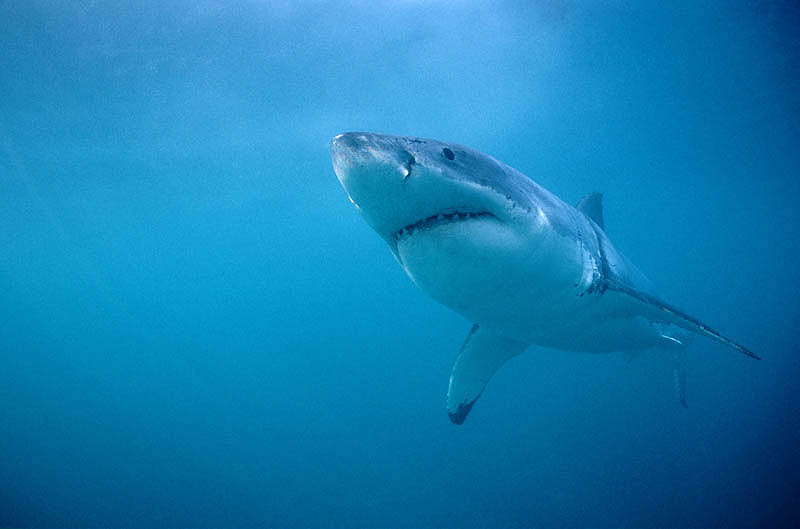Carcharodon_carcharias: (316, 109, 770, 449)
